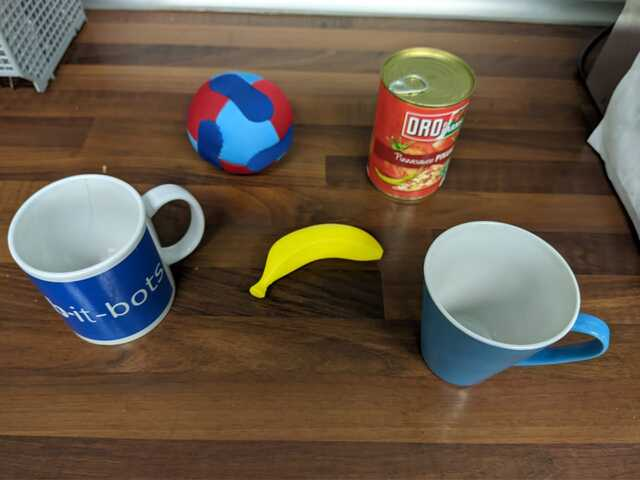005_tomato_soup_can: (363, 44, 480, 204)
011_banana: (249, 219, 387, 306)
025_mug: (5, 169, 208, 350), (418, 217, 615, 391)
057_racquetball: (184, 68, 300, 180)
